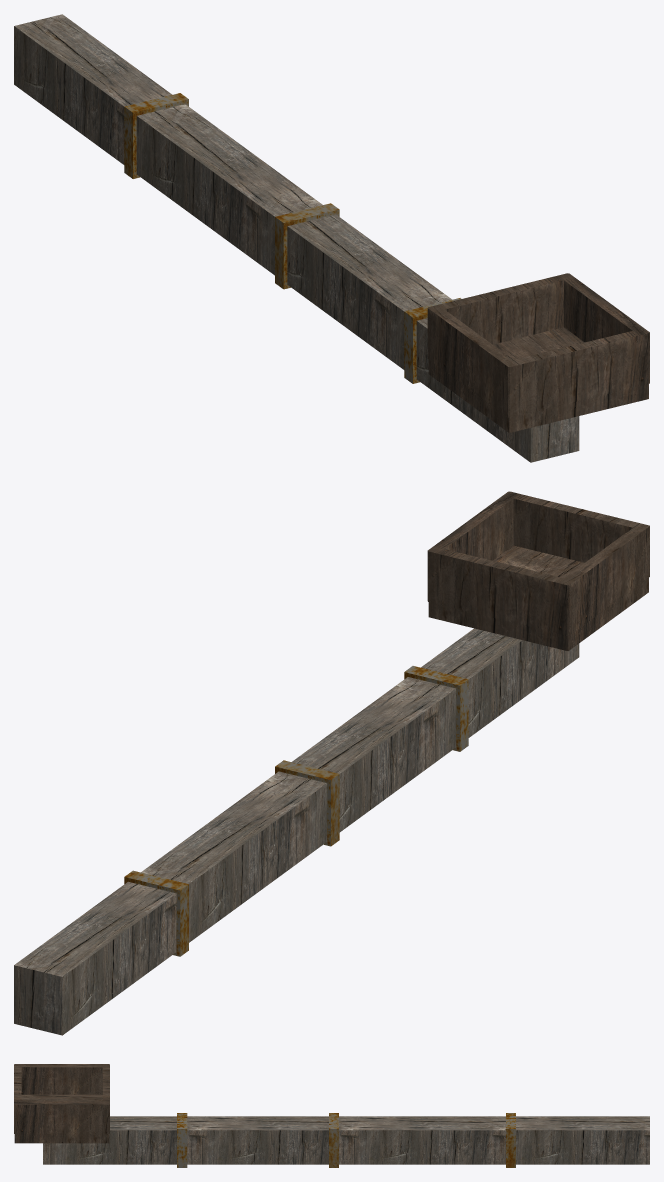
File: Catapult_Arm.gltf
3 renders of one model, top to bottom at view 1: azimuth 30°, elevation 25°; view 2: azimuth 150°, elevation 25°; view 3: azimuth 270°, elevation 25°, orthographic. The views are drawn at different scales.
Parts seen in each view (by area): view 1: Catapult_Arm; view 2: Catapult_Arm; view 3: Catapult_Arm.
Part boxes in pixels (x1,y1,x2,y2): Catapult_Arm: (14,14,649,462); Catapult_Arm: (14,491,649,1035); Catapult_Arm: (14,1064,649,1167).
Size of the model in its own units: 0.76 by 0.66 by 5.03.
3 materials, 3 textured.
